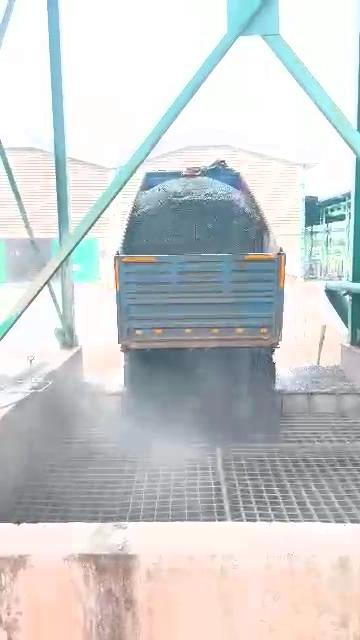gravel: (125, 349, 279, 441), (123, 174, 269, 254), (282, 367, 350, 389)
